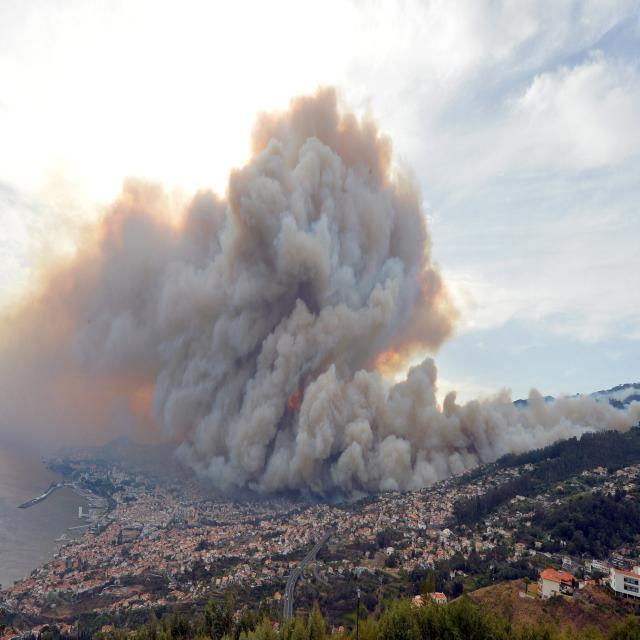Fire: (289, 393, 303, 411)
Smoke: (70, 224, 277, 478), (230, 136, 441, 358), (319, 366, 548, 491)
